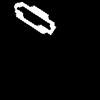chain: (14, 2, 55, 34)
